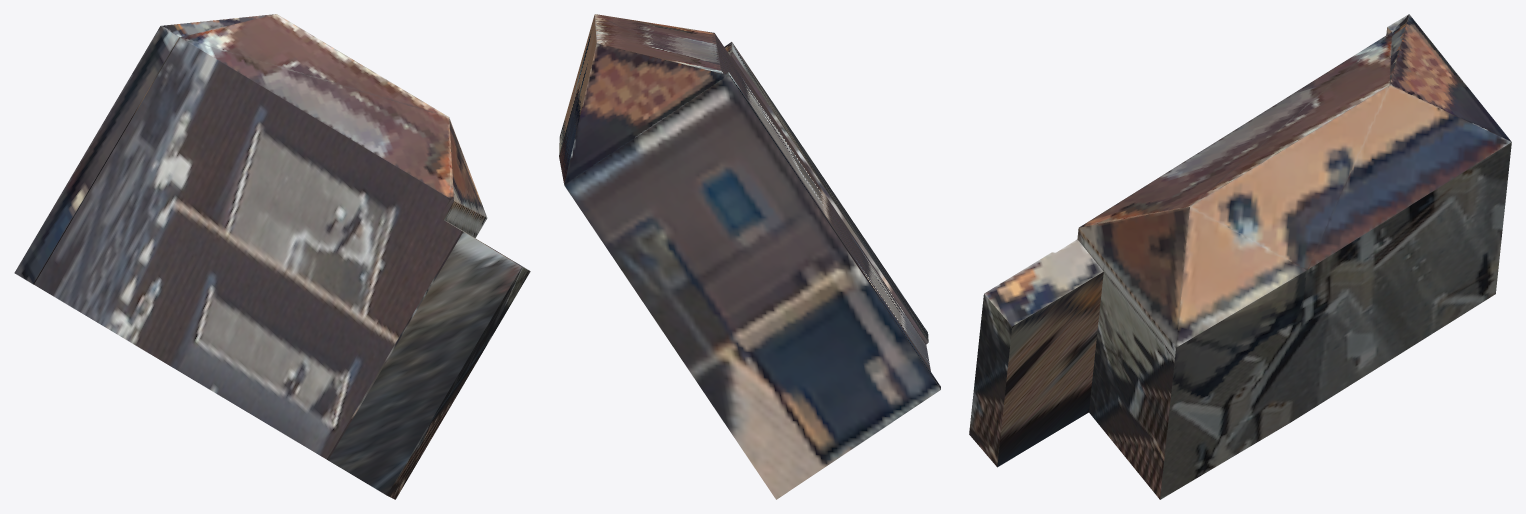
3 views of the same model, side by side, from view 1: azimuth 30°, elevation 25°; view 2: azimuth 150°, elevation 25°; view 3: azimuth 270°, elevation 25° (orthographic). The views are drawn at different scales.
Parts seen in each view (by area): view 1: BAG_0599100000650099 (×5); view 2: BAG_0599100000650099 (×5); view 3: BAG_0599100000650099 (×3).
Boxes of the visible parts, <box> form: BAG_0599100000650099 (×5): <box>14,14,530,499</box>; BAG_0599100000650099 (×5): <box>559,14,940,499</box>; BAG_0599100000650099 (×3): <box>969,14,1511,499</box>.
Size of the model in its own units: 13.49 by 12.87 by 14.27.
1 material, 1 textured.
